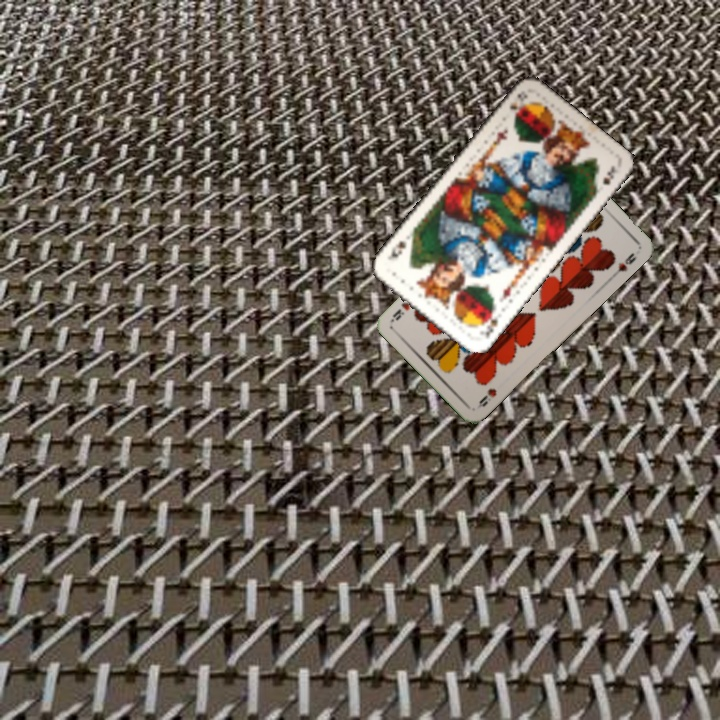H9: (473, 384, 499, 411)
SK: (477, 306, 501, 341), (505, 87, 530, 118)
